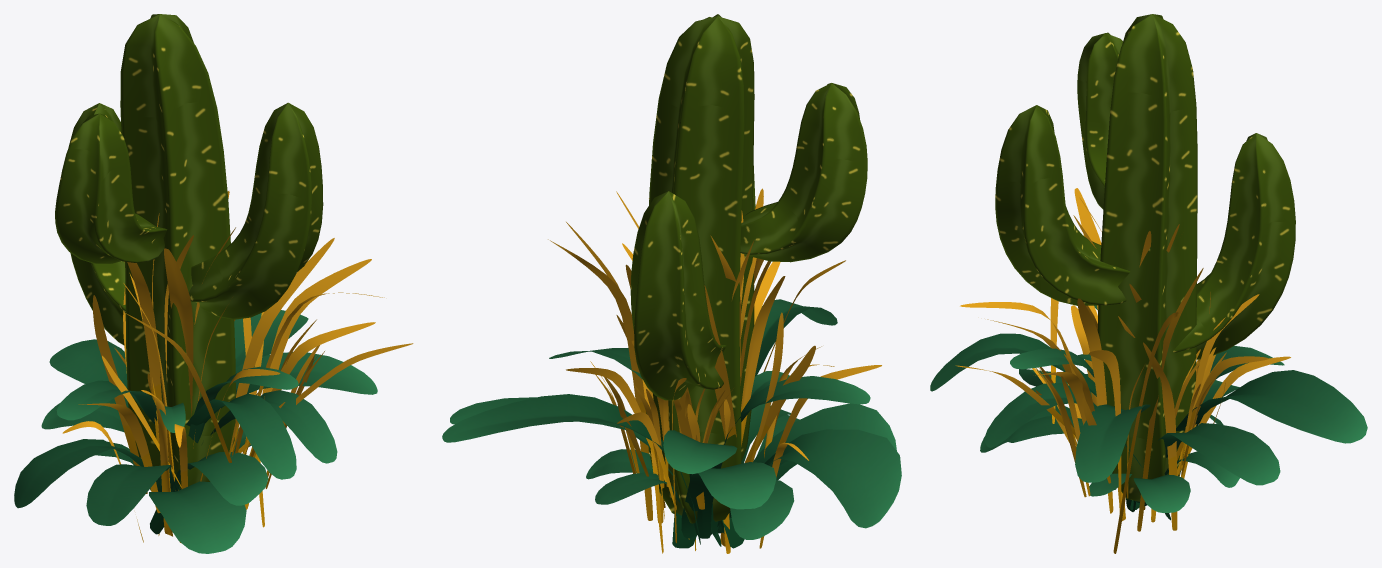
Rendered from Plants.fbx.
3 renders of one model, left to right at view 1: azimuth 30°, elevation 25°; view 2: azimuth 150°, elevation 25°; view 3: azimuth 270°, elevation 25°, orthographic. The views are drawn at different scales.
Visible parts, largest first — view 1: Cactus, Plant, Grass; view 2: Cactus, Plant, Grass; view 3: Cactus, Plant, Grass.
Boxes of the visible parts, left/top/right/bottom form: Cactus: left=55, top=14, right=323, bottom=490; Plant: left=14, top=310, right=377, bottom=553; Grass: left=62, top=191, right=413, bottom=543; Cactus: left=630, top=14, right=867, bottom=523; Plant: left=442, top=299, right=901, bottom=548; Grass: left=548, top=188, right=881, bottom=553; Cactus: left=995, top=14, right=1295, bottom=501; Plant: left=930, top=305, right=1367, bottom=520; Grass: left=955, top=188, right=1290, bottom=553.
Size of the model in its own units: 188 by 266 by 210.
